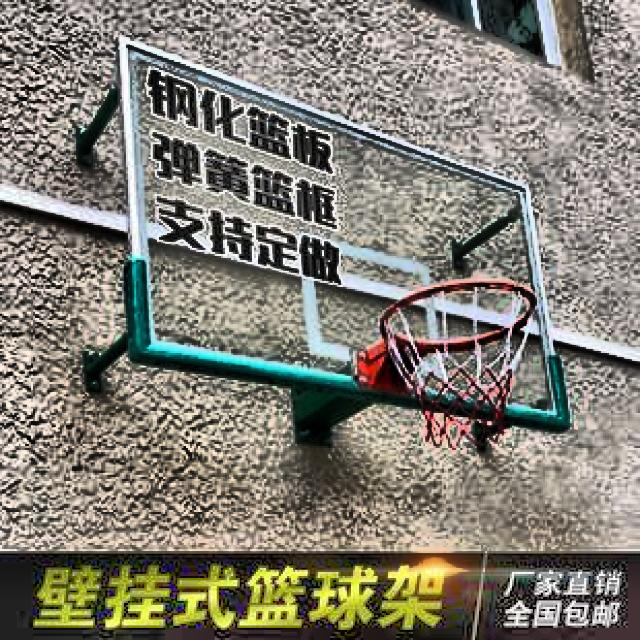rim: (382, 279, 539, 444)
